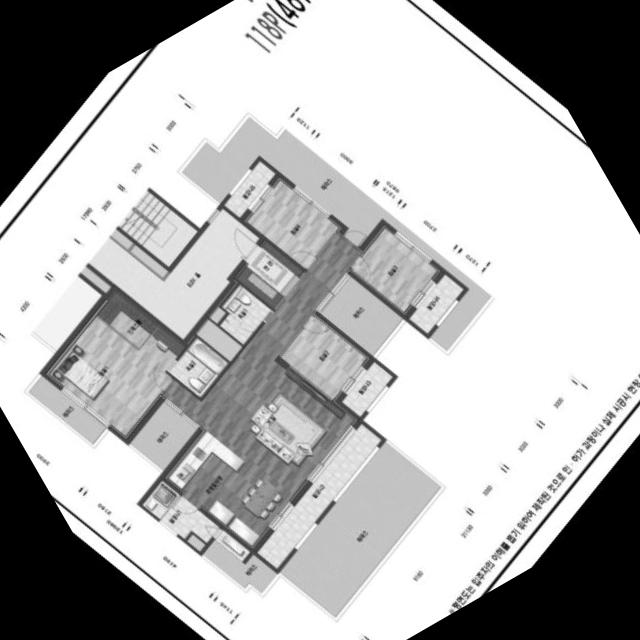background: (0, 0, 640, 640)
space_balconi: (258, 424, 382, 568), (143, 481, 220, 542), (410, 274, 464, 333), (225, 161, 276, 217), (342, 362, 393, 416)
space_bedroom: (46, 314, 186, 438), (244, 177, 342, 268), (351, 225, 441, 314), (281, 314, 370, 401)
space_dressroom: (95, 290, 159, 348)
space_elevator_hall: (89, 209, 259, 339)
space_front: (235, 240, 304, 308)
space_kitchen: (165, 428, 293, 549)
space_living_room: (161, 232, 363, 499)
space_other: (196, 318, 243, 361), (187, 534, 206, 551), (209, 306, 226, 323)
space_toilet: (170, 337, 229, 397), (220, 285, 271, 344)
